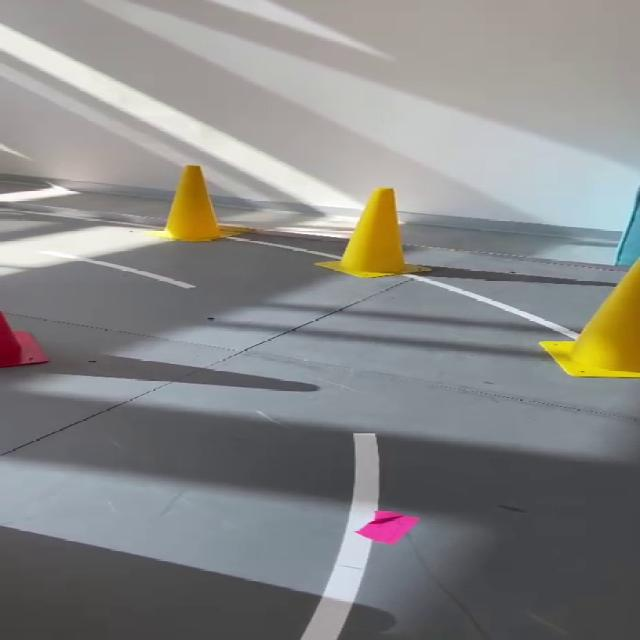Cone-red: (0, 312, 48, 368)
Cones-yellow: (541, 258, 639, 378), (320, 188, 425, 277), (164, 165, 225, 241)
